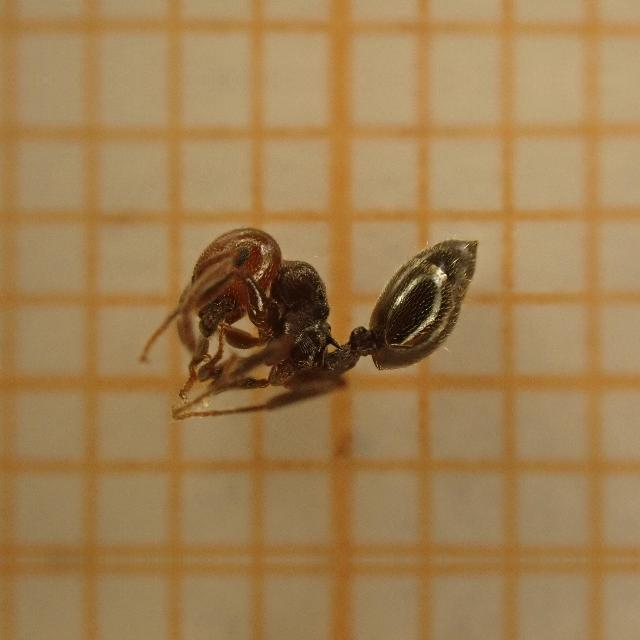Crematogaster: (155, 220, 501, 428)
